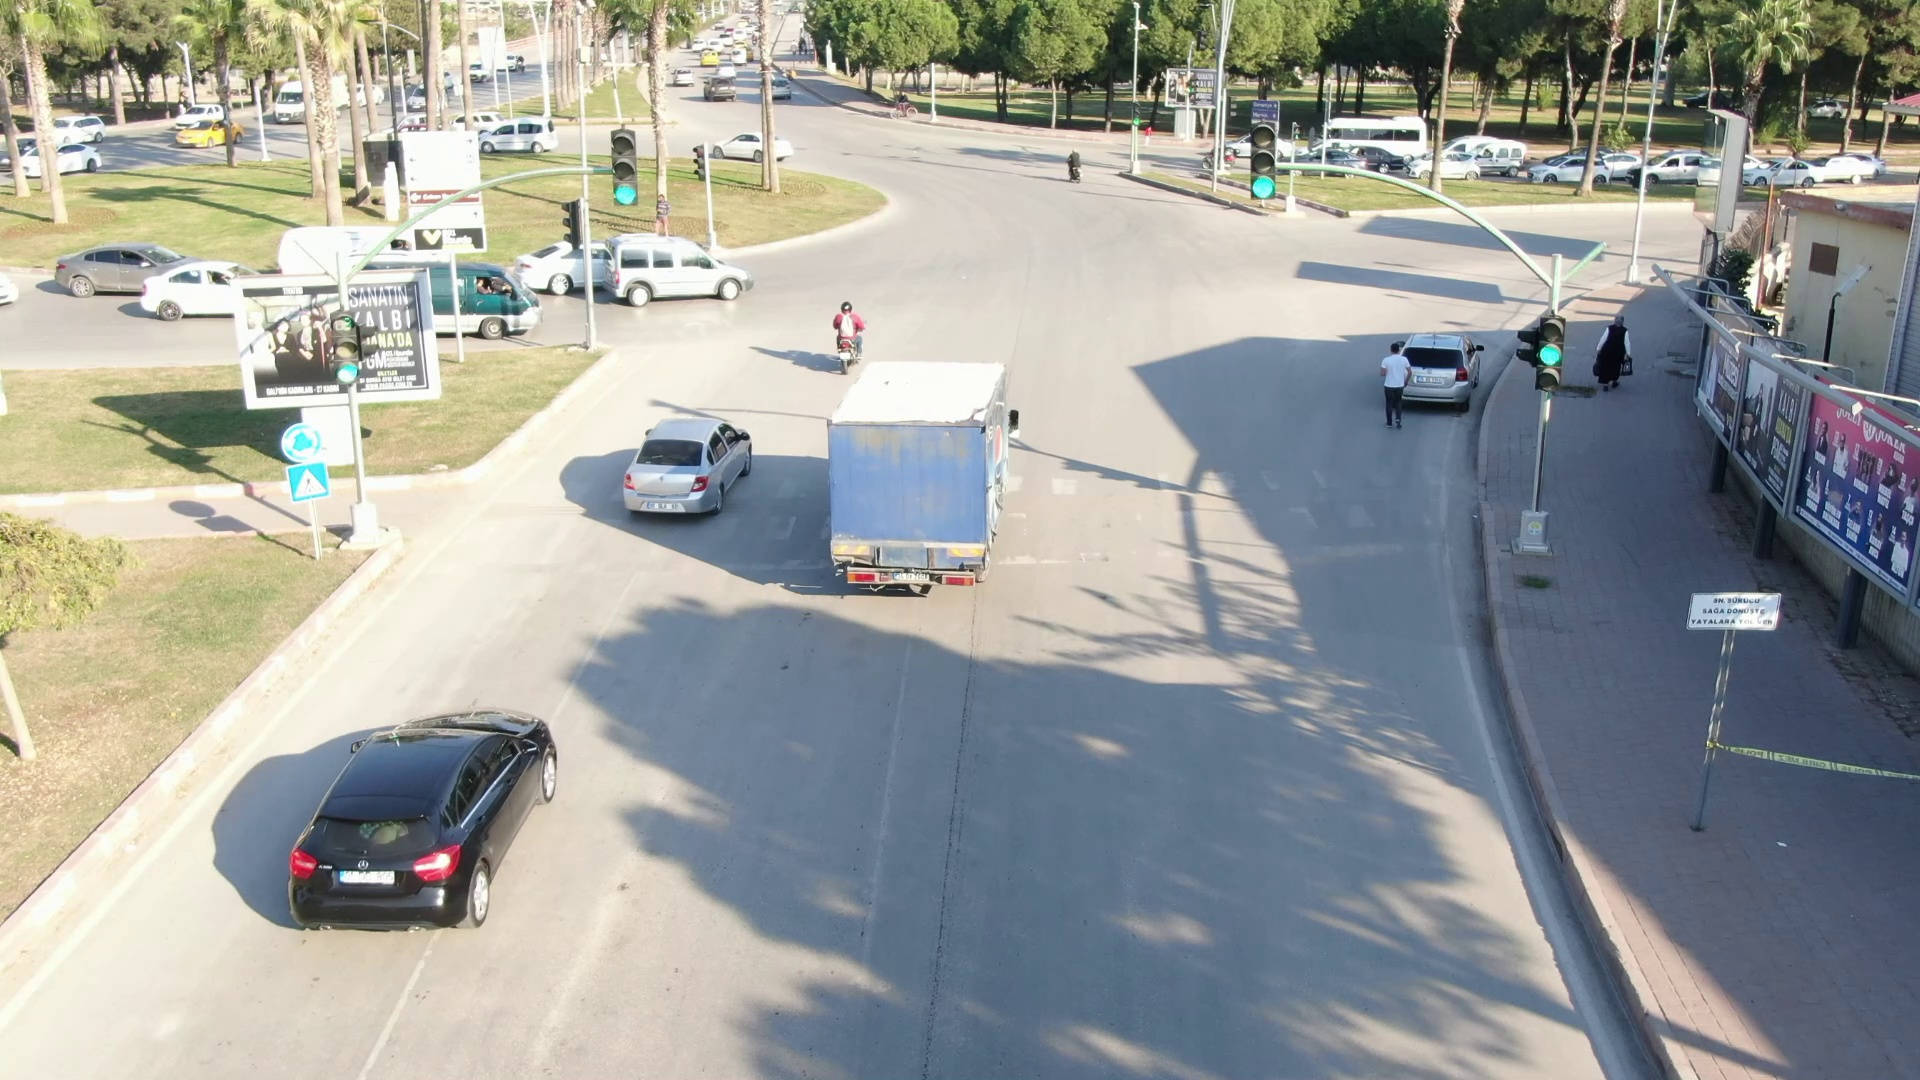car: (279, 685, 575, 941), (601, 395, 761, 521), (597, 230, 759, 309), (49, 229, 206, 309), (1519, 150, 1612, 191), (476, 115, 568, 156), (709, 124, 796, 164), (1404, 147, 1485, 186), (175, 114, 254, 150), (665, 63, 698, 88)
person: (1585, 306, 1643, 396), (1374, 337, 1414, 432)
